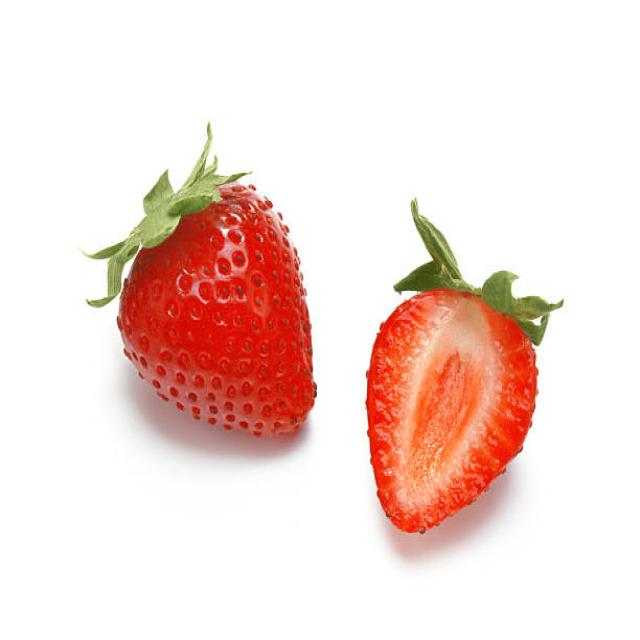Healthy Fruit: (120, 185, 316, 432), (367, 285, 536, 531)
